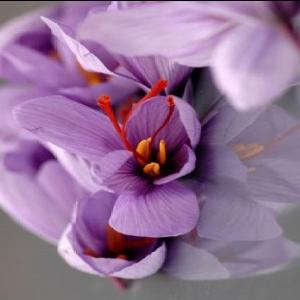Saffron: (12, 94, 200, 235), (81, 1, 298, 106), (56, 186, 172, 282)
